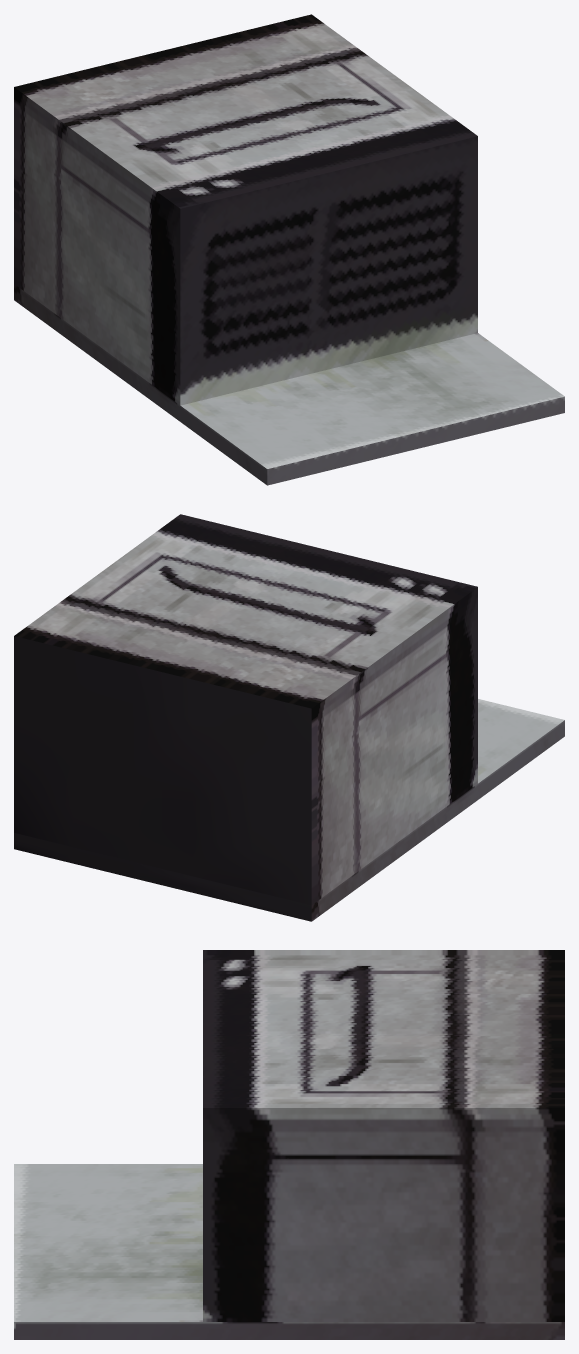
Rendered from pz_g016_industrial_oven.obj.
The picture shows the model from 3 angles, top to bottom: view 1: azimuth 30°, elevation 25°; view 2: azimuth 150°, elevation 25°; view 3: azimuth 270°, elevation 25°; orthographic projection. The views are drawn at different scales.
Parts seen in each view (by area): view 1: native_component_1_z+, native_component_1_y+, native_component_1_x-, native_component_0_y+, native_component_0_z+, native_component_0_x-; view 2: native_component_1_z-, native_component_1_y+, native_component_1_x-, native_component_0_z-, native_component_0_x-, native_component_0_y+; view 3: native_component_1_x+, native_component_1_y+, native_component_0_y+, native_component_0_x+.
Boxes of the visible parts, box(x1,y1,x2,y2) form: native_component_1_z+: box(180, 136, 477, 405); native_component_1_y+: box(14, 14, 477, 208); native_component_1_x-: box(14, 87, 180, 404); native_component_0_y+: box(181, 333, 564, 468); native_component_0_z+: box(267, 396, 564, 485); native_component_0_x-: box(14, 284, 267, 485); native_component_1_z-: box(14, 636, 311, 905); native_component_1_y+: box(14, 514, 477, 708); native_component_1_x-: box(311, 587, 477, 904); native_component_0_z-: box(14, 833, 311, 921); native_component_0_x-: box(311, 720, 564, 921); native_component_0_y+: box(478, 699, 564, 783); native_component_1_x+: box(203, 1108, 564, 1321); native_component_1_y+: box(203, 950, 564, 1107); native_component_0_y+: box(14, 1164, 202, 1321); native_component_0_x+: box(14, 1322, 564, 1339).
Size of the model in its own units: 0.95 by 0.65 by 1.4.
Materials: 1 (1 with a texture image).
